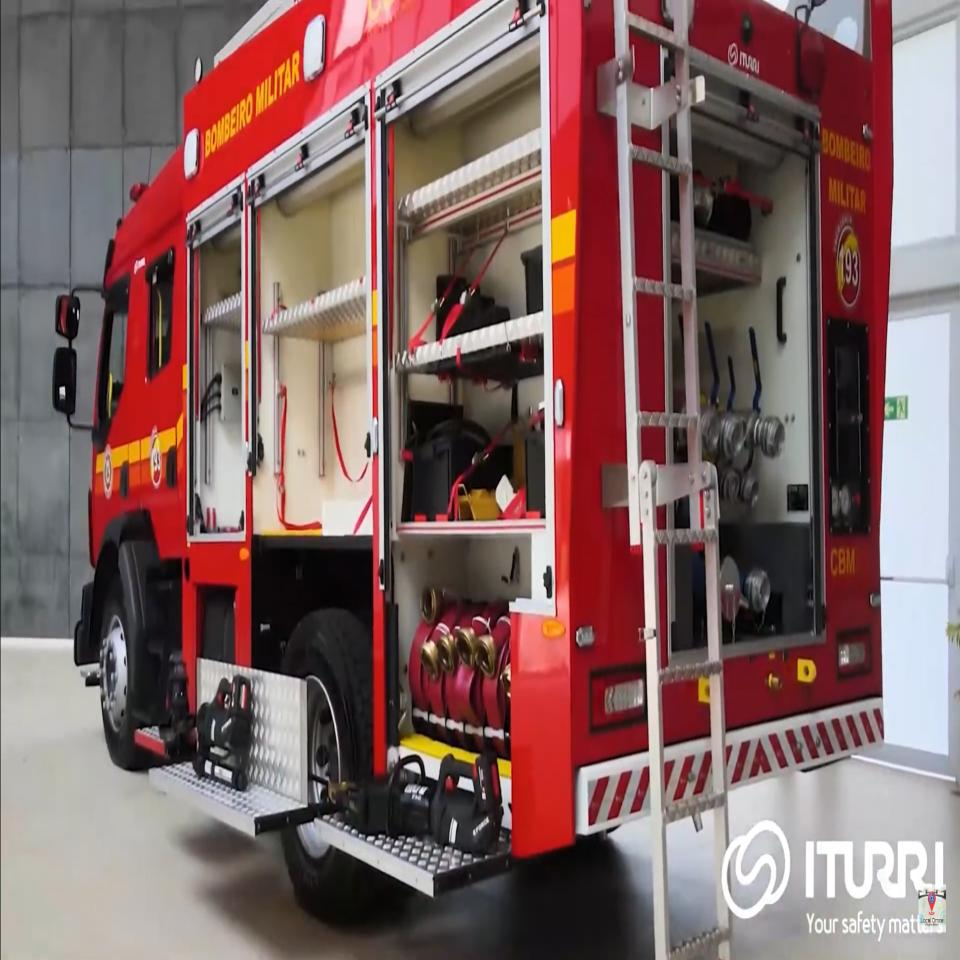viatura: (48, 0, 895, 919)
